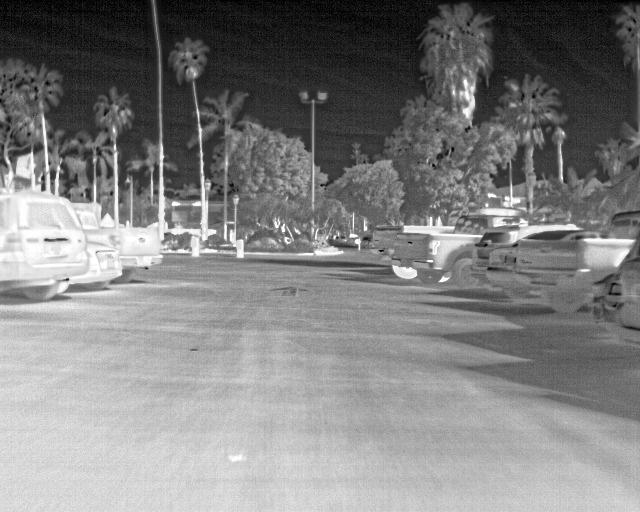car: (516, 208, 638, 315), (0, 189, 89, 303), (392, 206, 524, 282), (486, 230, 603, 300), (471, 225, 577, 283), (75, 206, 161, 275), (373, 209, 467, 267), (600, 236, 639, 352), (78, 242, 120, 286), (345, 230, 362, 248)
